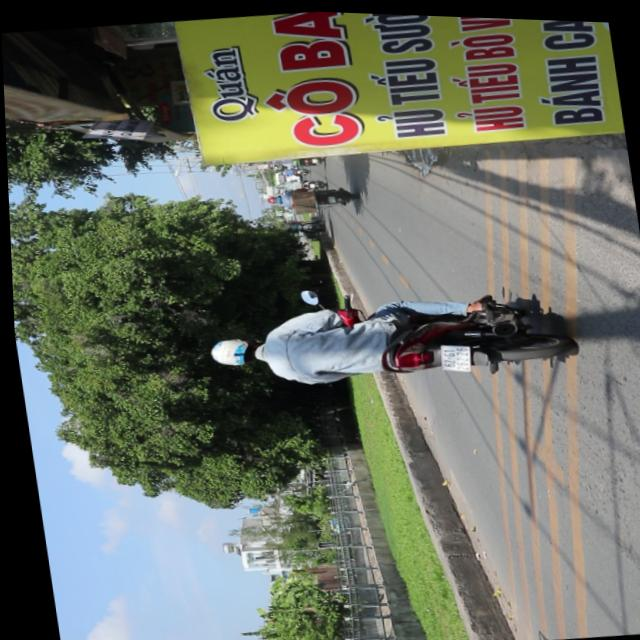helmet: (203, 333, 261, 368)
licenseplate: (196, 270, 575, 407)
nohelmet: (434, 338, 470, 369)
